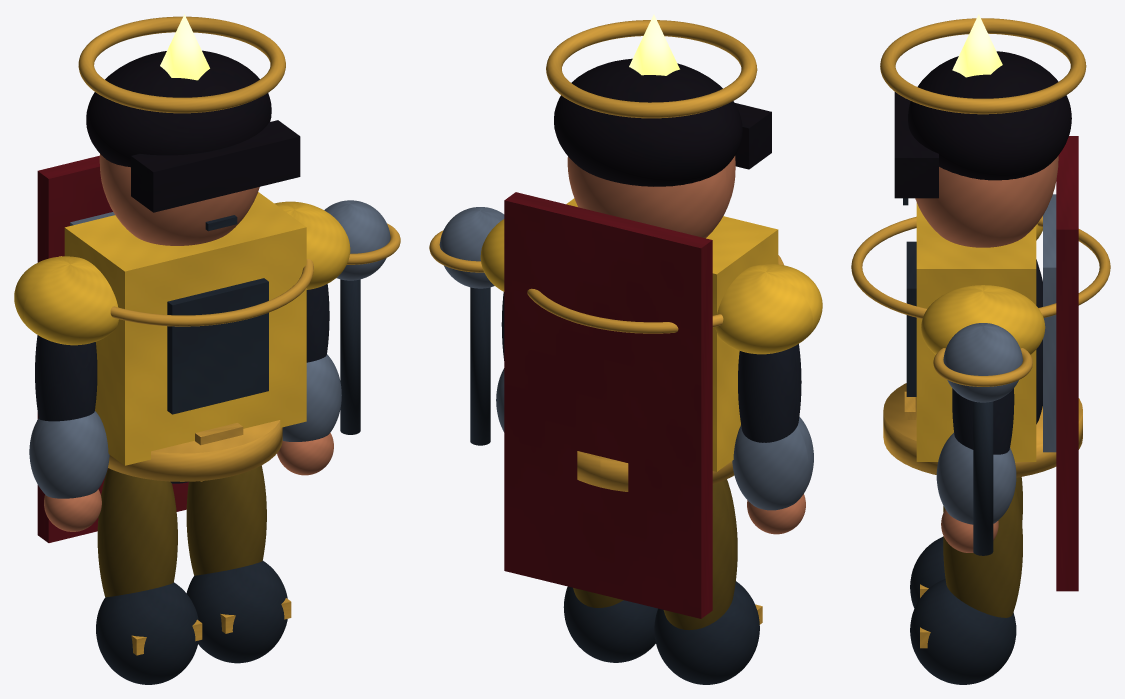
File: Mastery.glb
3 renders of one model, left to right at view 1: azimuth 30°, elevation 25°; view 2: azimuth 150°, elevation 25°; view 3: azimuth 270°, elevation 25°, orthographic. The views are drawn at different scales.
Visible parts, largest first — view 1: ChestPlate, Hair, ChestInset, HairFringe, Leg, Boot, Boot.001, Leg.001, Shoulder, CrownRing, Cape, Head (+14 smaller); view 2: Cape, Hair, Shoulder, CrownRing, ChestPlate, Head, Boot, Arm, Gauntlet, Boot.001, Leg, MaceHandle (+8 smaller); view 3: Hair, ChestPlate, Cape, Head, Boot.001, CrownRing, Leg.001, Shoulder.001, MaceHead, Gauntlet.001, WaistGuard, BackArmor (+10 smaller).
Boxes of the visible parts, x1,y1,x2,y2 form: ChestPlate: [64, 192, 306, 465]; Hair: [86, 50, 271, 167]; ChestInset: [167, 278, 268, 414]; HairFringe: [131, 120, 300, 212]; Leg: [97, 468, 177, 597]; Boot: [96, 582, 198, 684]; Boot.001: [186, 561, 287, 663]; Leg.001: [186, 465, 266, 575]; Shoulder: [14, 256, 118, 345]; CrownRing: [78, 16, 285, 113]; Cape: [37, 155, 188, 542]; Head: [99, 154, 259, 245]; Cape: [504, 192, 712, 618]; Hair: [554, 58, 742, 186]; Shoulder: [715, 264, 822, 354]; CrownRing: [546, 20, 757, 118]; ChestPlate: [566, 198, 778, 471]; Head: [567, 156, 735, 238]; Boot: [654, 581, 759, 684]; Arm: [738, 344, 801, 442]; Gauntlet: [732, 416, 813, 510]; Boot.001: [563, 586, 657, 662]; Leg: [663, 479, 737, 629]; MaceHandle: [470, 287, 490, 445]; Hair: [908, 51, 1071, 180]; ChestPlate: [916, 202, 1036, 461]; Cape: [1056, 136, 1078, 591]; Head: [915, 156, 1058, 247]; Boot.001: [910, 579, 1016, 684]; CrownRing: [880, 18, 1086, 114]; Leg.001: [943, 487, 1022, 617]; Shoulder.001: [921, 285, 1045, 354]; MaceHead: [943, 323, 1022, 402]; Gauntlet.001: [936, 433, 1016, 524]; WaistGuard: [883, 383, 1082, 477]; BackArmor: [1043, 194, 1056, 452].
Size of the model in its own units: 1.92 by 3.21 by 1.17.
12 materials, 9 textured.
